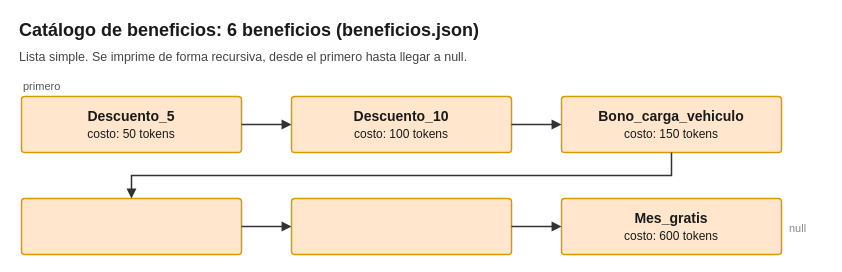
This 842x272 diagram has some shape labels left out. The shapes that lost their labels are listed below. From the top down, each one's centre as x and y in pixels, then its label:
the point at 131,226: Auditoria_energetica costo: 200 tokens
the point at 401,226: Panel_solar_parcial costo: 400 tokens
